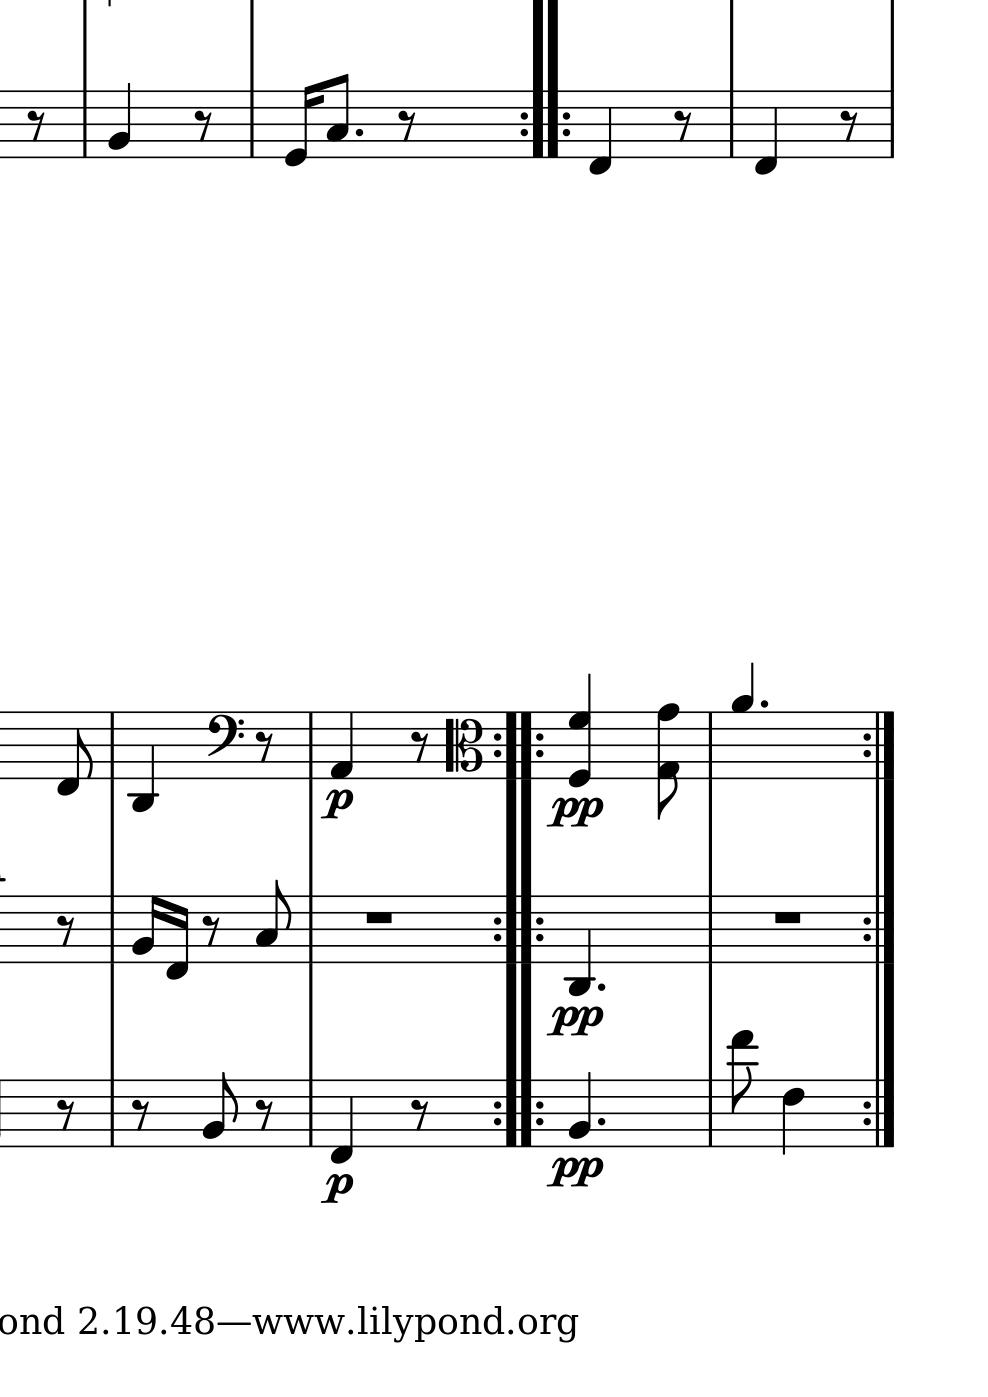16_-1: (164, 894, 190, 981)
16_0: (283, 82, 320, 168)
16_2: (132, 892, 161, 966)
4_-1: (752, 88, 779, 177), (586, 88, 614, 176), (329, 1077, 355, 1165)
4_-3: (566, 892, 595, 999), (128, 707, 156, 816)
4_0_7: (567, 673, 593, 788)
4_1: (329, 710, 355, 780)
4_2: (106, 80, 132, 161), (567, 1070, 593, 1147)
4_6: (779, 1078, 806, 1157)
4_9: (731, 662, 755, 782)
8_-1: (55, 709, 93, 797)
8_13: (727, 1029, 758, 1148)
8_1_8: (655, 702, 679, 820)
8_2: (201, 1071, 238, 1148)
8_3: (253, 878, 292, 965), (324, 72, 350, 160)
Cclef: (441, 710, 484, 781)
Fclef: (205, 710, 244, 780)
Rests1: (769, 909, 805, 927), (361, 909, 396, 927)
Rests8: (835, 107, 860, 142), (55, 1096, 77, 1132), (55, 912, 77, 947), (25, 107, 47, 141), (395, 108, 416, 143), (129, 1097, 150, 1133), (671, 108, 693, 142), (192, 108, 213, 143), (253, 1097, 274, 1132), (410, 730, 430, 764), (200, 914, 220, 948), (408, 1098, 429, 1132), (254, 729, 274, 764)
RightAndLeftRepeatSign: (490, 710, 547, 779), (515, 88, 571, 159), (490, 894, 547, 962), (490, 1078, 546, 1146)
RightRepeatSign: (859, 711, 898, 779), (859, 1078, 897, 1148), (859, 896, 897, 963)
Single_barline: (722, 90, 740, 158), (103, 712, 121, 780), (700, 895, 719, 963), (243, 91, 261, 157), (302, 895, 319, 963), (302, 712, 319, 779), (701, 712, 719, 779), (103, 896, 120, 963), (76, 91, 93, 157), (103, 1080, 120, 1146), (302, 1080, 319, 1146), (883, 91, 899, 158), (701, 1080, 717, 1147)
dot: (758, 697, 772, 712), (353, 126, 366, 140), (596, 980, 608, 994), (595, 1115, 606, 1129)
p: (318, 1171, 354, 1210), (321, 787, 355, 822)
pp: (545, 791, 604, 832), (545, 1004, 604, 1041), (545, 1154, 605, 1191)
